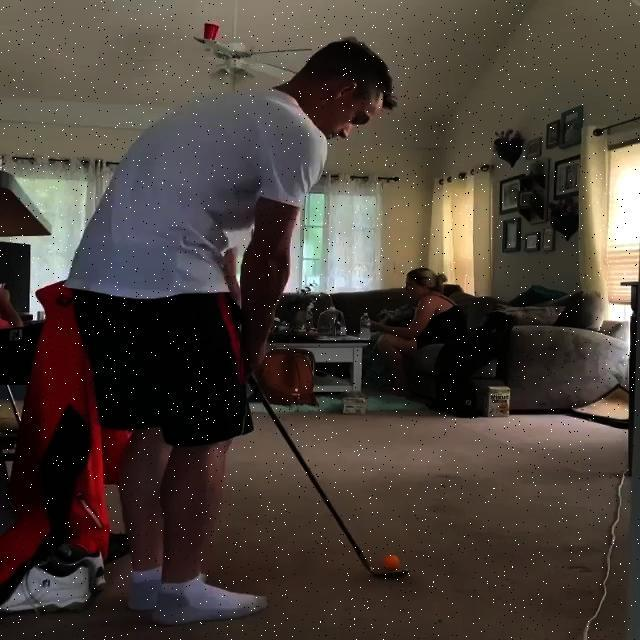ClubHandle: (250, 375, 409, 579)
ClubHead: (370, 567, 408, 579)
GolfBall: (383, 555, 401, 569)
